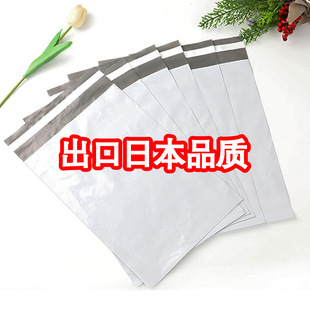塑料袋: (2, 2, 310, 310)
